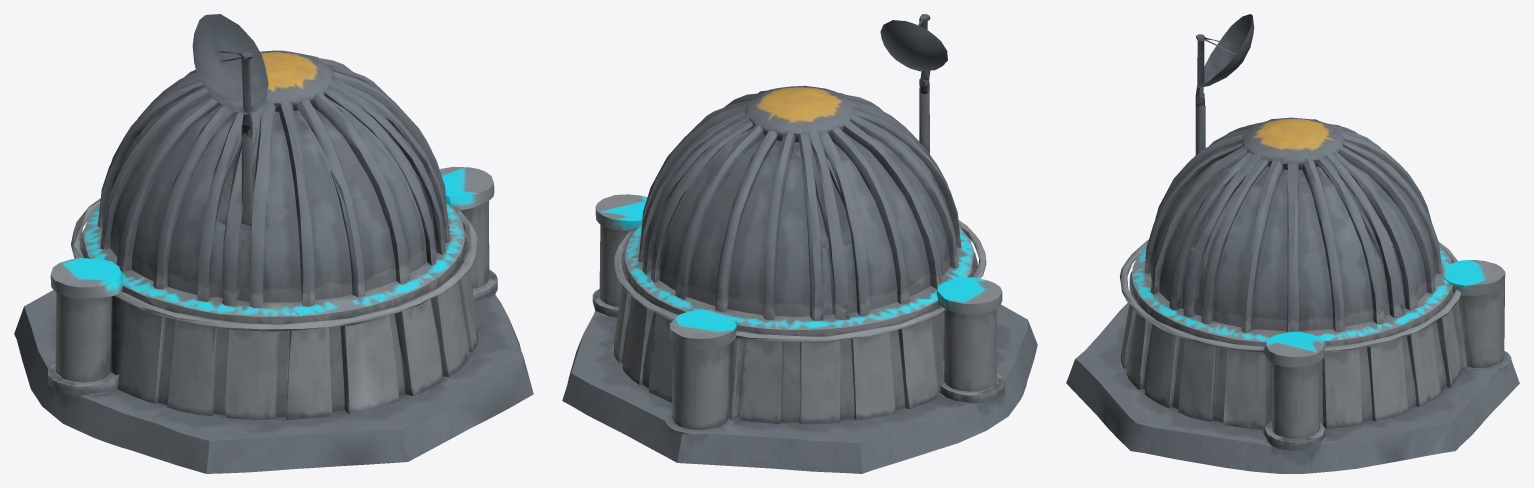
The model's file is town-lab-light.glb.
3 views of the same model, side by side, from view 1: azimuth 30°, elevation 25°; view 2: azimuth 150°, elevation 25°; view 3: azimuth 270°, elevation 25° (orthographic). The views are drawn at different scales.
Parts seen in each view (by area): view 1: town-lab-light; view 2: town-lab-light; view 3: town-lab-light.
Part boxes in pixels (bbox=[...]): town-lab-light: bbox=[14, 14, 533, 473]; town-lab-light: bbox=[562, 14, 1037, 473]; town-lab-light: bbox=[1066, 14, 1519, 473].
Bounding box in the file's own units: 10.27 × 8.66 × 10.79.
Materials: 1 (1 with a texture image).
